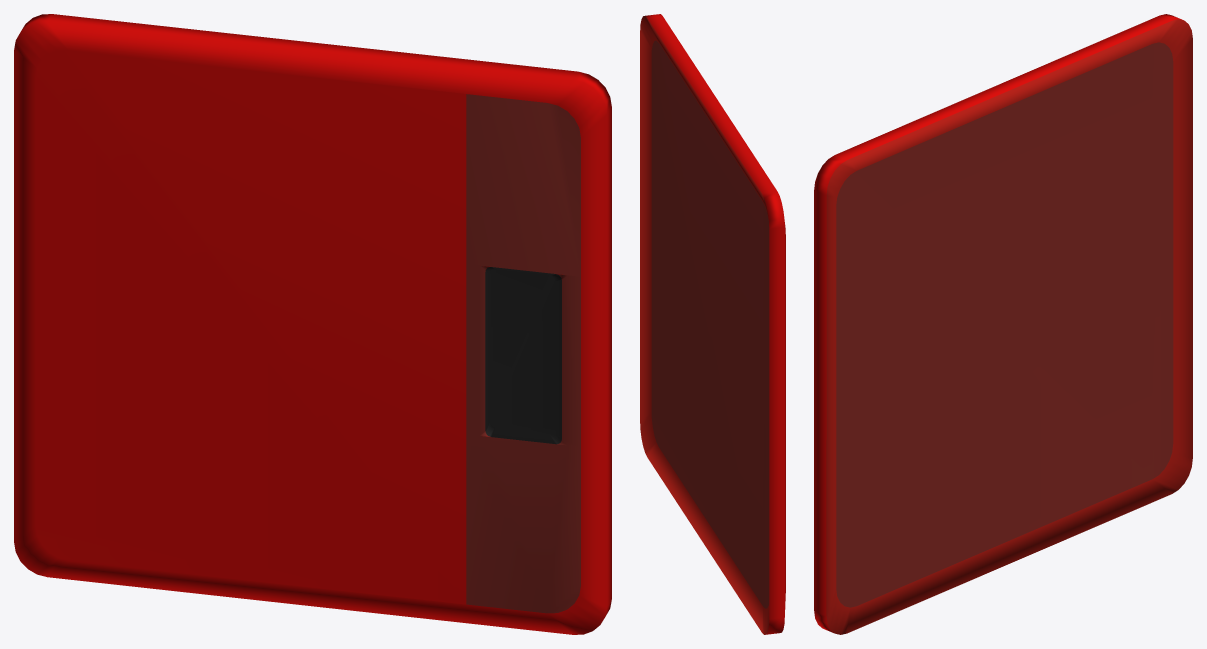
File: LoadCenter_Door.fbx
3 renders of one model, left to right at view 1: azimuth 30°, elevation 25°; view 2: azimuth 150°, elevation 25°; view 3: azimuth 270°, elevation 25°, orthographic. The views are drawn at different scales.
Visible parts, largest first — view 1: Door; view 2: Door; view 3: Door.
Boxes of the visible parts, x1=… form: Door: x1=14, y1=14, x2=611, y2=634; Door: x1=640, y1=14, x2=785, y2=634; Door: x1=814, y1=14, x2=1192, y2=634.
Bounding box in the file's own units: 27.2 × 37.51 × 27.61.
